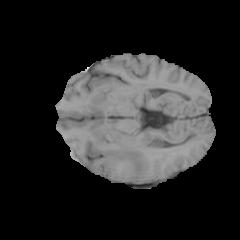glioma: (91, 144, 159, 182)
